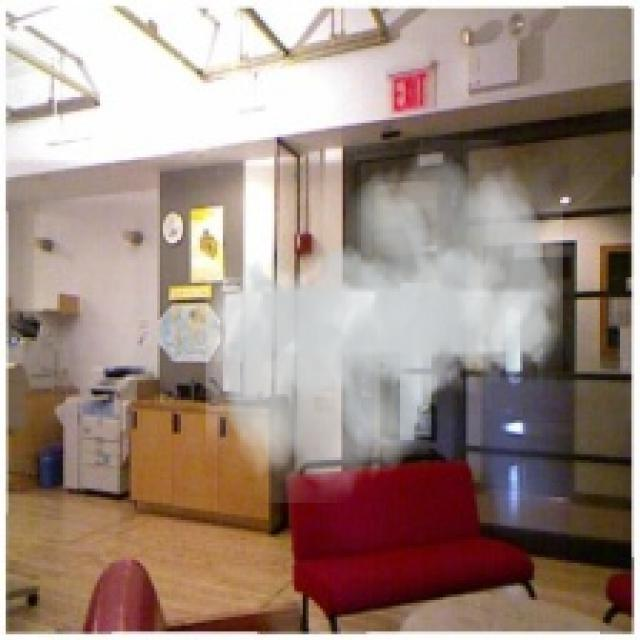smoke: (206, 140, 563, 503)
